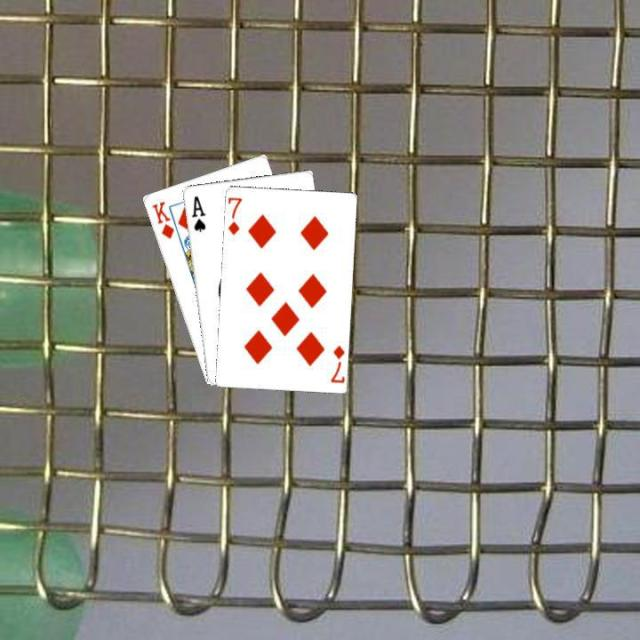7D: (224, 193, 244, 236), (326, 341, 345, 384)
AS: (187, 192, 207, 233)
KD: (148, 197, 176, 241)
